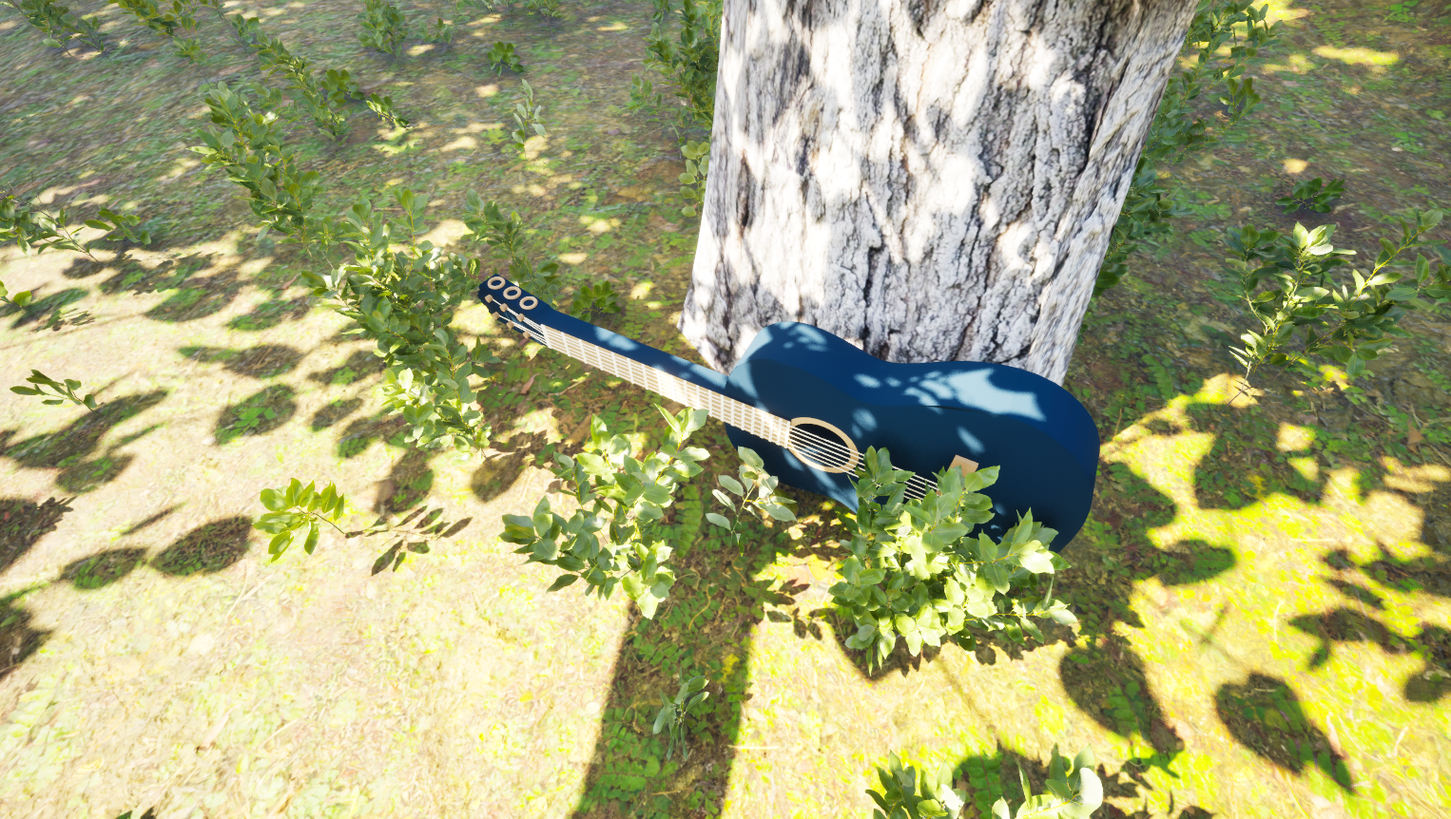Guitar: (426, 184, 1152, 603)
